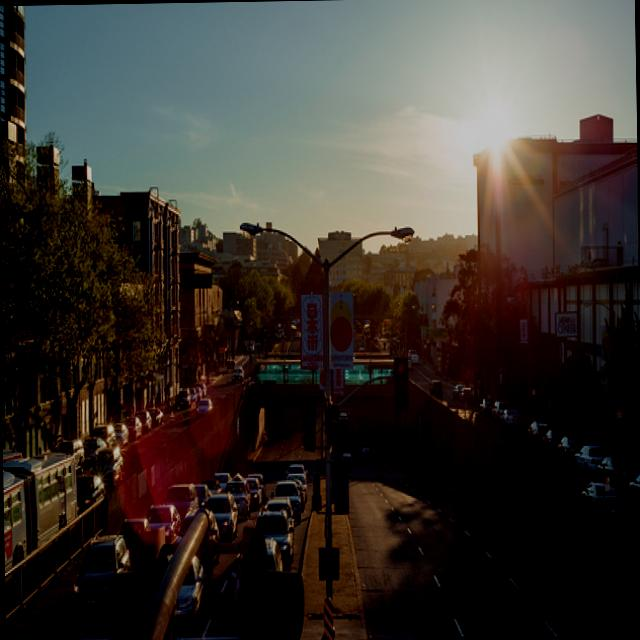Vehicle: (358, 430, 624, 529), (2, 450, 78, 574), (69, 534, 132, 610), (253, 510, 294, 572), (175, 554, 205, 622), (206, 488, 239, 542), (145, 504, 181, 544), (224, 472, 252, 520), (162, 482, 198, 518), (262, 491, 295, 528), (274, 479, 300, 525), (572, 446, 608, 476), (244, 476, 262, 511), (284, 464, 308, 484), (193, 483, 212, 507)
